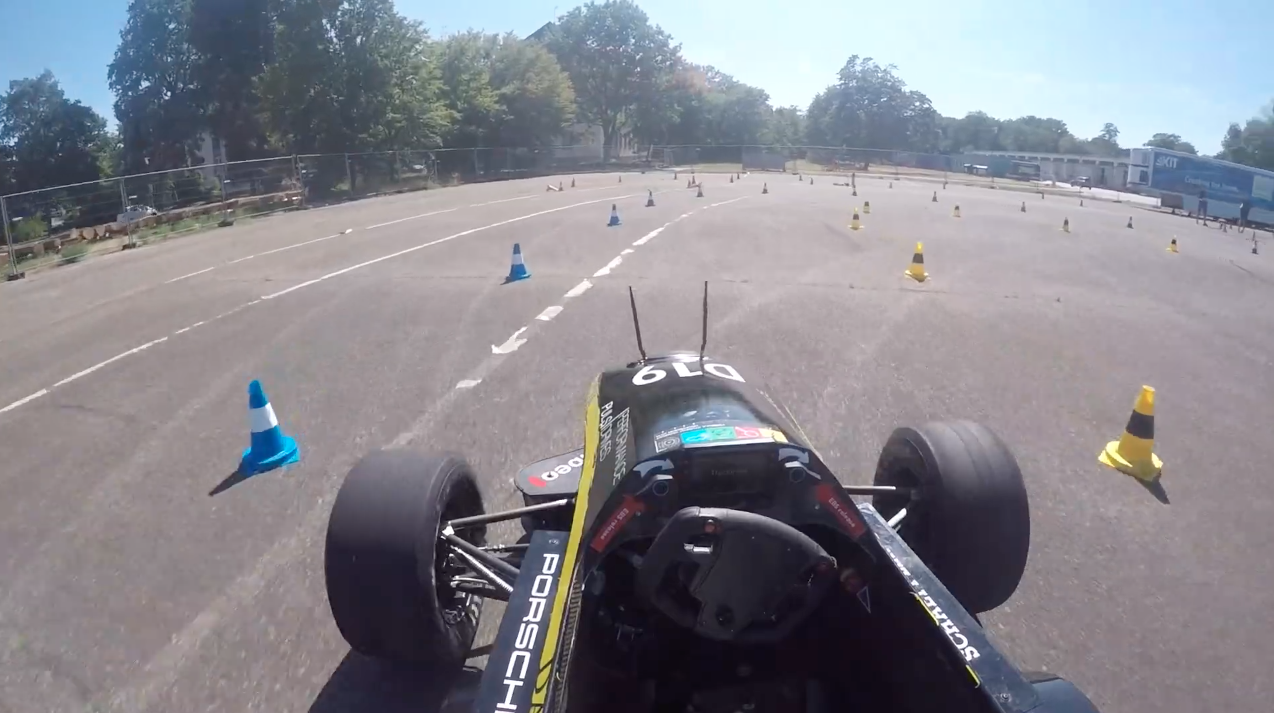lcone: (236, 377, 308, 477), (502, 241, 532, 281), (605, 201, 625, 227)
rcone: (1094, 381, 1169, 485), (898, 238, 933, 282), (846, 204, 865, 232)
